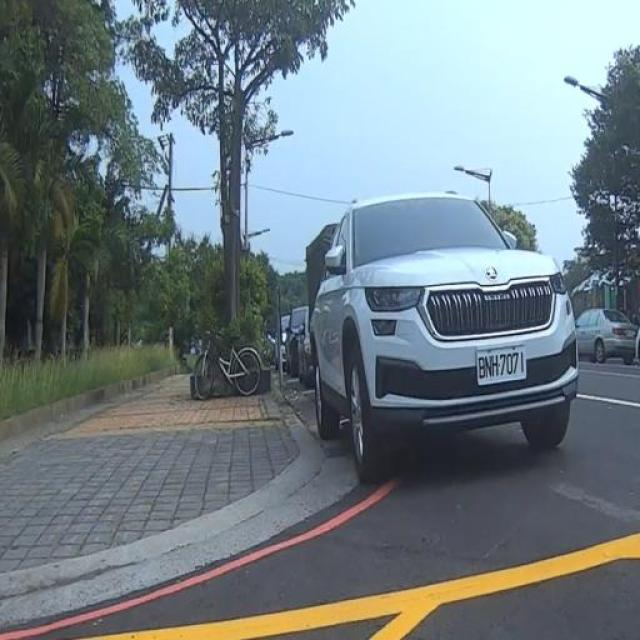illegalparking: (301, 160, 639, 514)
